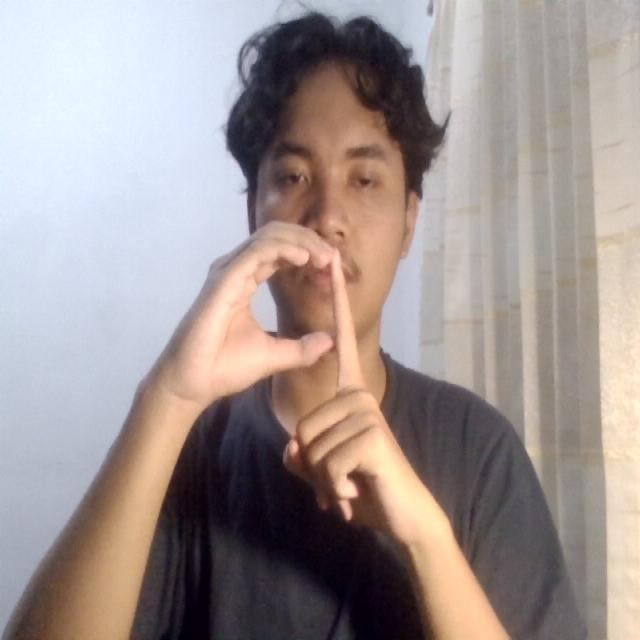D: (189, 209, 438, 562)
